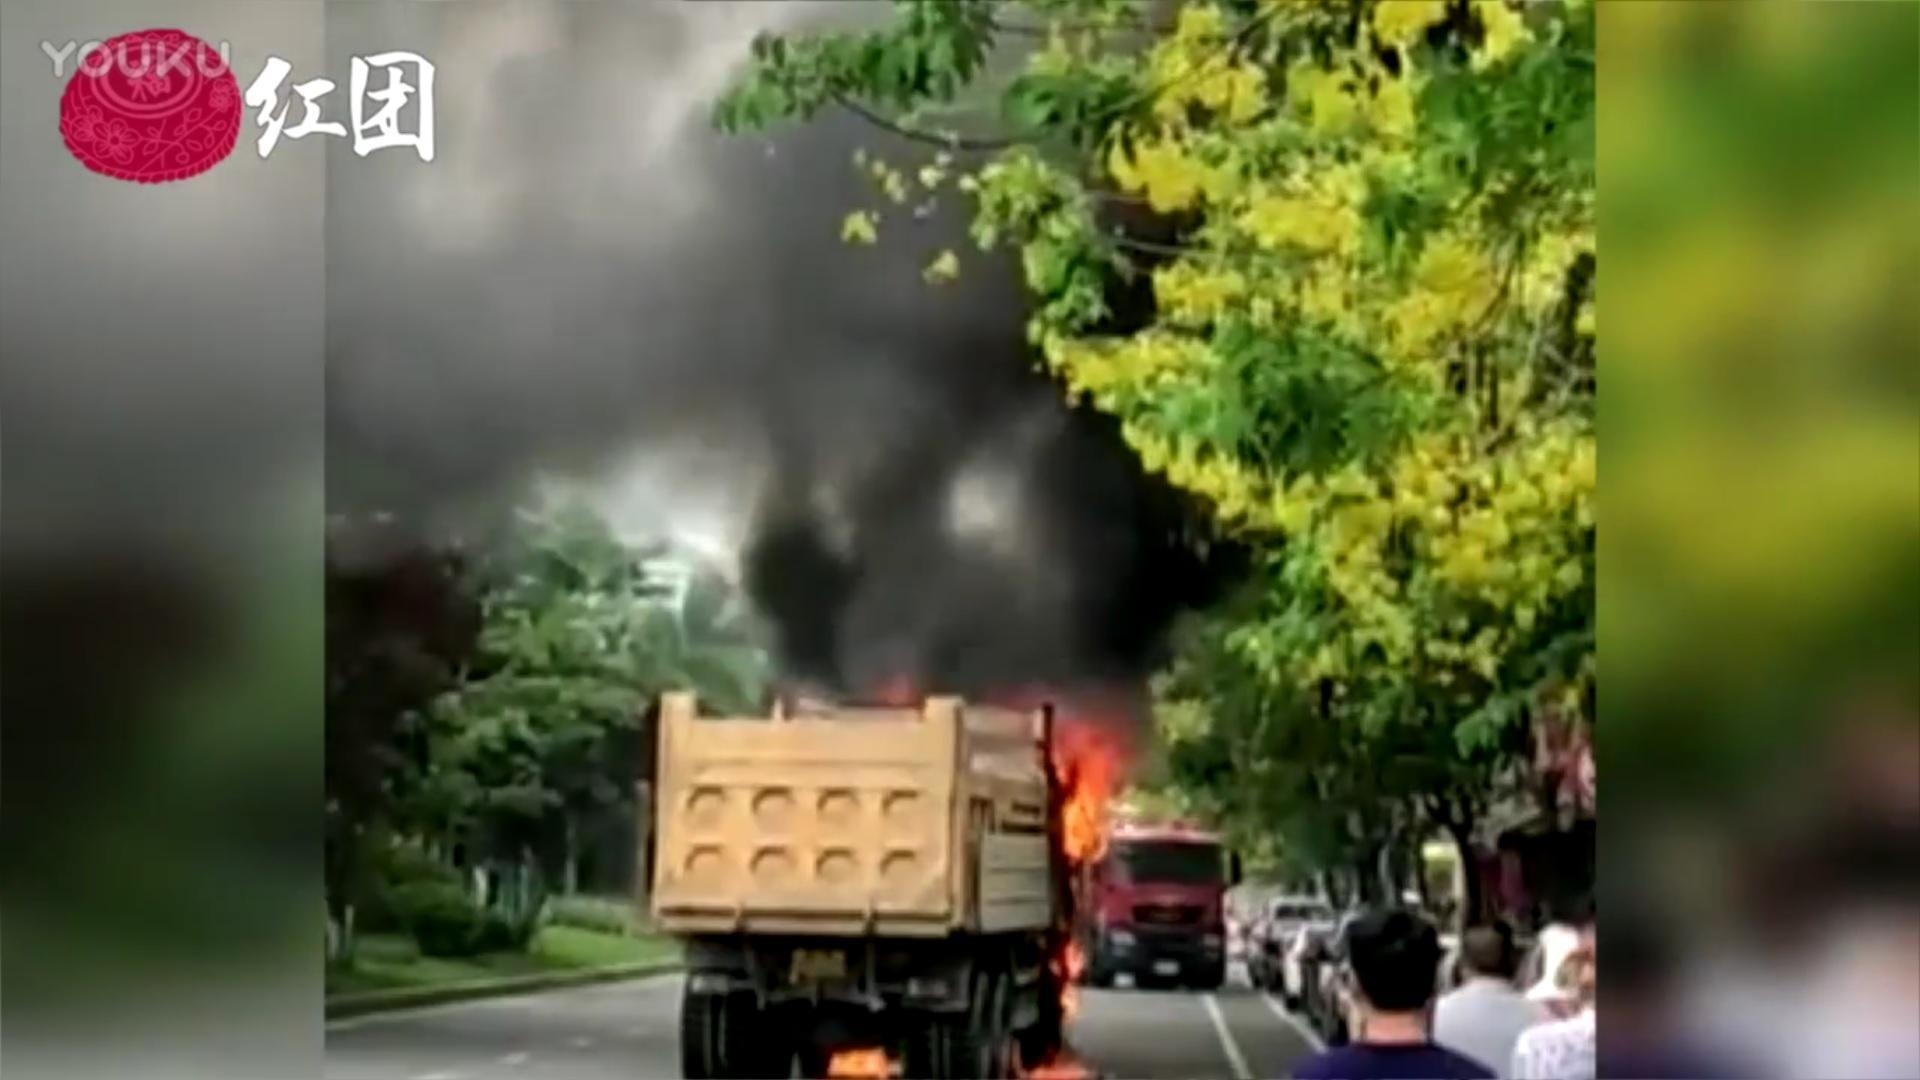fire: (1022, 935, 1098, 1079), (1050, 727, 1126, 858), (825, 1039, 901, 1079)
